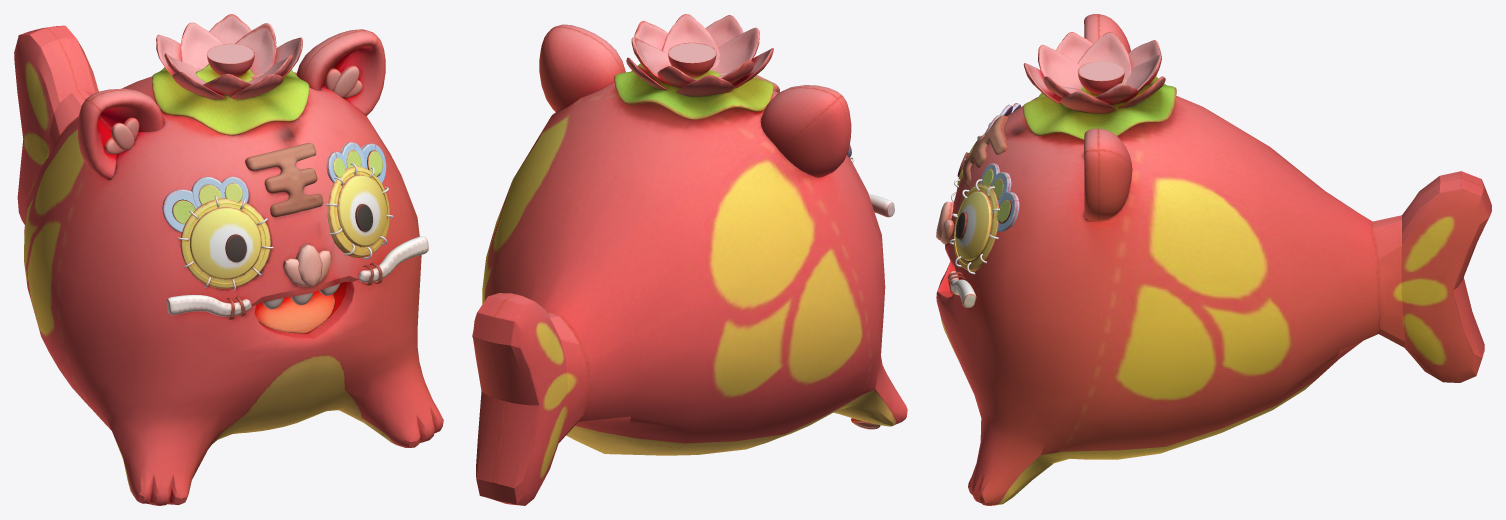
The model's file is jly.gltf.
3 renders of one model, left to right at view 1: azimuth 30°, elevation 25°; view 2: azimuth 150°, elevation 25°; view 3: azimuth 270°, elevation 25°, orthographic. The views are drawn at different scales.
Visible parts, largest first — view 1: 绌虹櫧.1; view 2: 绌虹櫧.1; view 3: 绌虹櫧.1.
Part boxes in pixels (left/top/right/bottom): 绌虹櫧.1: left=14, top=14, right=443, bottom=505; 绌虹櫧.1: left=472, top=14, right=907, bottom=505; 绌虹櫧.1: left=936, top=14, right=1491, bottom=505.
Size of the model in its own units: 51.59 by 55.56 by 73.06.
Materials: 1 (1 with a texture image).
